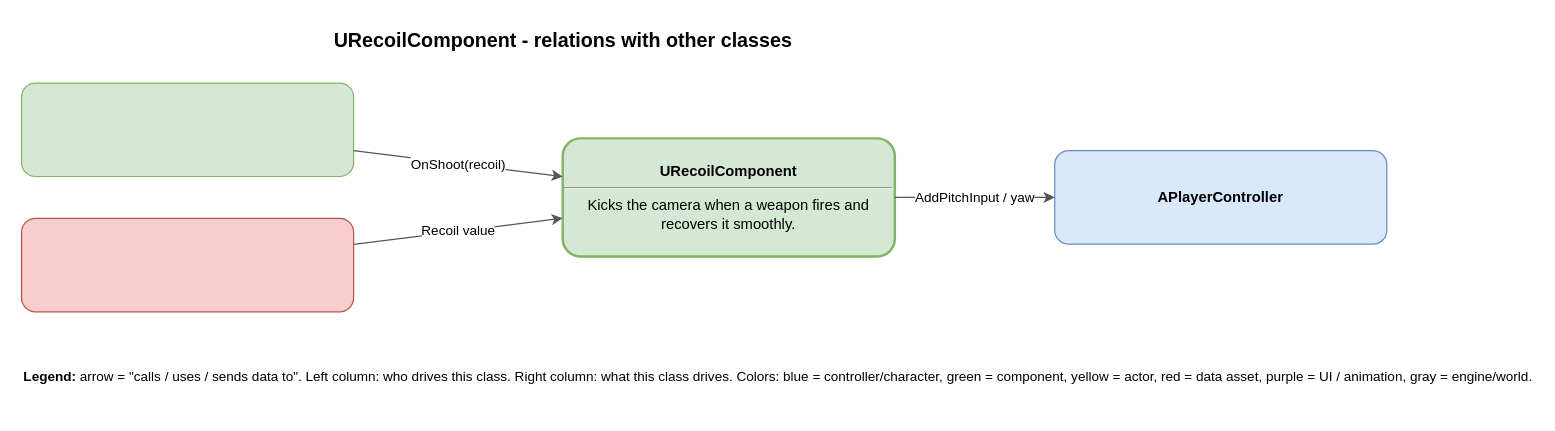
Some shapes in this 1555 by 431 pixel diagram are drawn without their labels. The centre of each missing label's shape, as x and y in pixels:
UWeaponData: point 187,264
UWeaponManager: point 187,129
